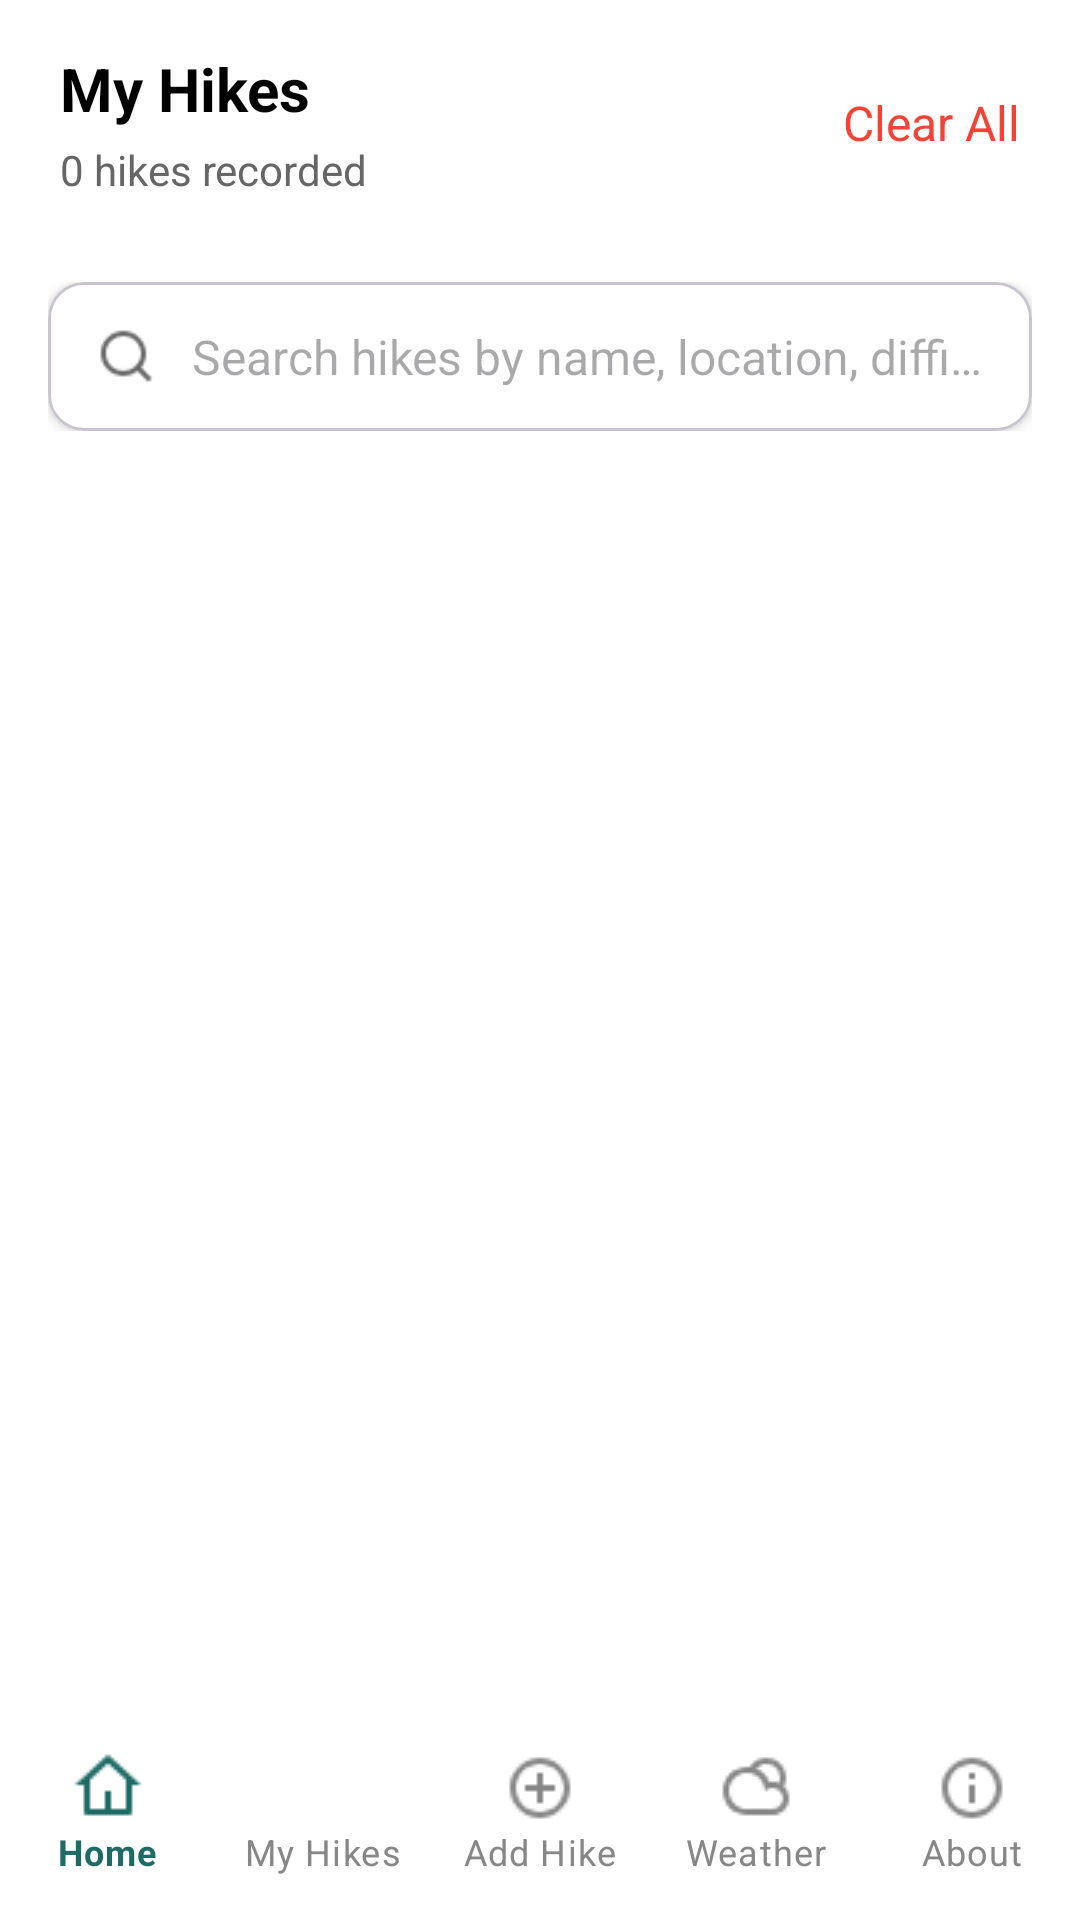

Icon bounding boxes for this 1080*1920 phone screenshot, format (x1, y1, x2, y2):
search line: (100, 330, 152, 382)
